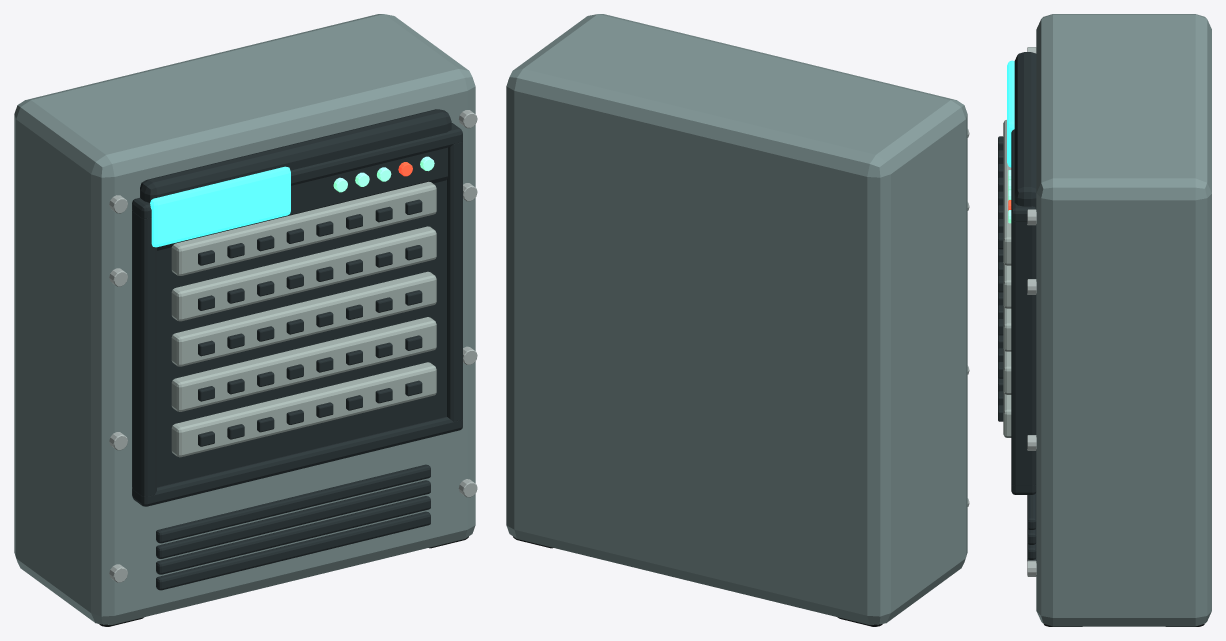
File: Armoire de distribution réseau.glb
3 views of the same model, side by side, from view 1: azimuth 30°, elevation 25°; view 2: azimuth 150°, elevation 25°; view 3: azimuth 270°, elevation 25° (orthographic). The views are drawn at different scales.
Parts seen in each view (by area): view 1: NETWORK_Cabinet, NETWORK_Patch_Bay_Panel, NETWORK_Control_Band, NETWORK_Patch_Row_3, NETWORK_Patch_Row_1, NETWORK_Patch_Row_4, NETWORK_Patch_Row_2, NETWORK_Patch_Row_5, NETWORK_Control_Screen, NETWORK_Patch_Bay_Rail_Left, NETWORK_Patch_Bay_Rail_Bottom, NETWORK_Patch_Bay_Rail_Right (+5 smaller); view 2: NETWORK_Cabinet; view 3: NETWORK_Cabinet, NETWORK_Patch_Bay_Rail_Right, NETWORK_Control_Band, NETWORK_Patch_Row_5, NETWORK_Control_Screen, NETWORK_Patch_Bay_Rail_Top, NETWORK_Patch_Row_2, NETWORK_Patch_Row_3, NETWORK_Patch_Row_4, NETWORK_Patch_Row_1, NETWORK_Lower_Vent_Slat_4.
Part boxes in pixels (x1,y1,x2,y2): NETWORK_Cabinet: (14,14,475,624); NETWORK_Patch_Bay_Panel: (157,180,446,487); NETWORK_Control_Band: (140,109,451,250); NETWORK_Patch_Row_3: (171,271,436,366); NETWORK_Patch_Row_1: (171,362,436,457); NETWORK_Patch_Row_4: (171,226,436,321); NETWORK_Patch_Row_2: (171,317,436,411); NETWORK_Patch_Row_5: (171,181,436,275); NETWORK_Control_Screen: (150,166,290,247); NETWORK_Patch_Bay_Rail_Left: (132,210,156,496); NETWORK_Patch_Bay_Rail_Bottom: (132,417,462,506); NETWORK_Patch_Bay_Rail_Right: (447,141,462,421); NETWORK_Cabinet: (506,14,967,624); NETWORK_Cabinet: (1036,14,1211,626); NETWORK_Patch_Bay_Rail_Right: (1011,220,1036,485); NETWORK_Control_Band: (1014,52,1036,207); NETWORK_Patch_Row_5: (1003,120,1011,265); NETWORK_Control_Screen: (1007,60,1014,167); NETWORK_Patch_Bay_Rail_Top: (1011,129,1036,221); NETWORK_Patch_Row_2: (1003,348,1011,394); NETWORK_Patch_Row_3: (1003,305,1011,351); NETWORK_Patch_Row_4: (1003,262,1011,308); NETWORK_Patch_Row_1: (1003,391,1011,437); NETWORK_Lower_Vent_Slat_4: (1027,492,1036,529).
Bounding box in the file's own units: 1.15 × 1.35 × 0.585.
